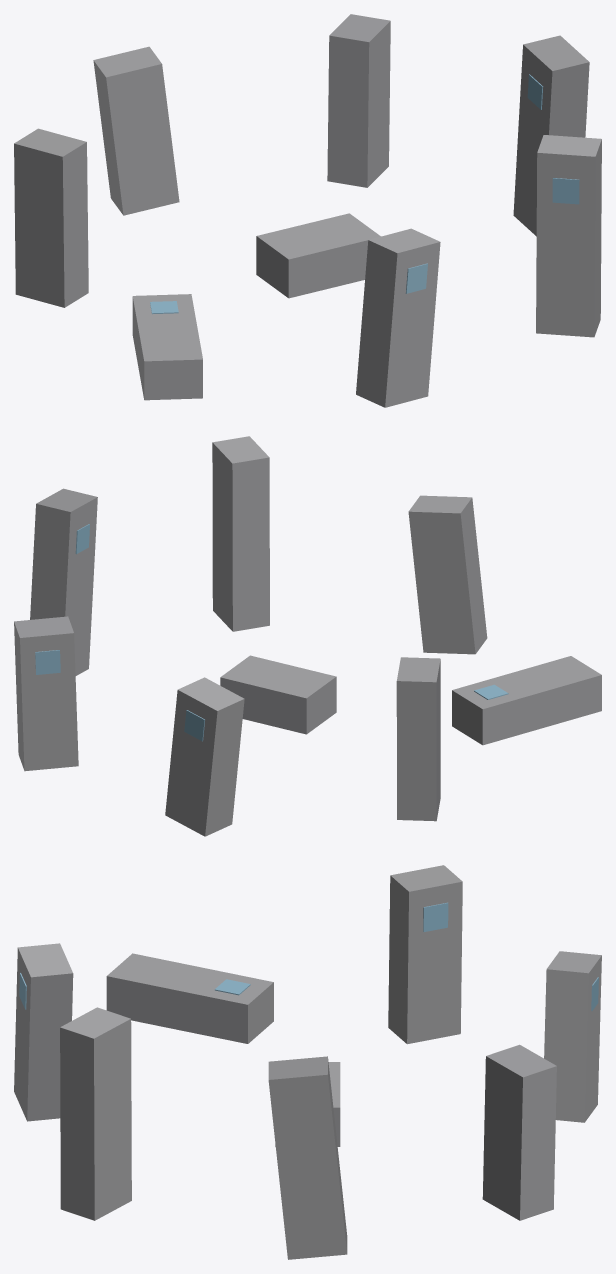
The model's file is standing_stones.glb.
3 views of the same model, one above another, from view 1: azimuth 30°, elevation 25°; view 2: azimuth 150°, elevation 25°; view 3: azimuth 270°, elevation 25° (orthographic). The views are drawn at different scales.
Visible parts, largest first — view 1: standing_stones2; view 2: standing_stones2; view 3: standing_stones2.
Boxes of the visible parts, x1,y1,x2,y2 form: standing_stones2: (14,14,601,407); standing_stones2: (14,436,601,836); standing_stones2: (14,865,601,1259).
Bounding box in the file's own units: 11.03 × 3.78 × 10.85.
